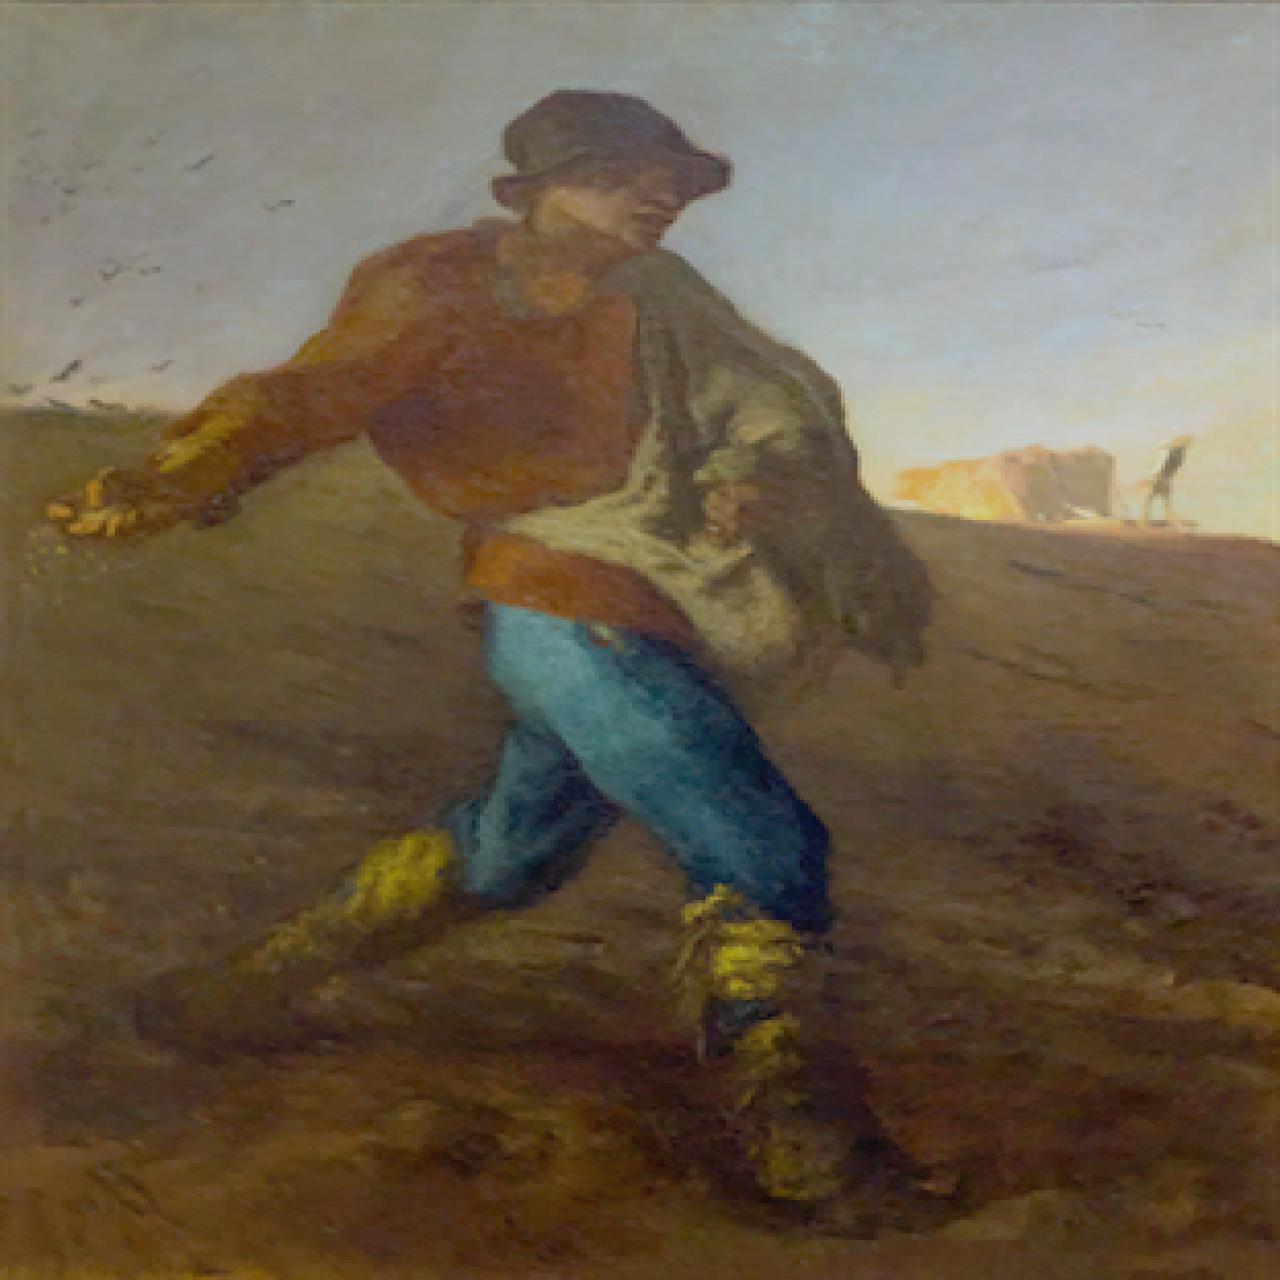Slower: (1, 1, 1276, 1278)
